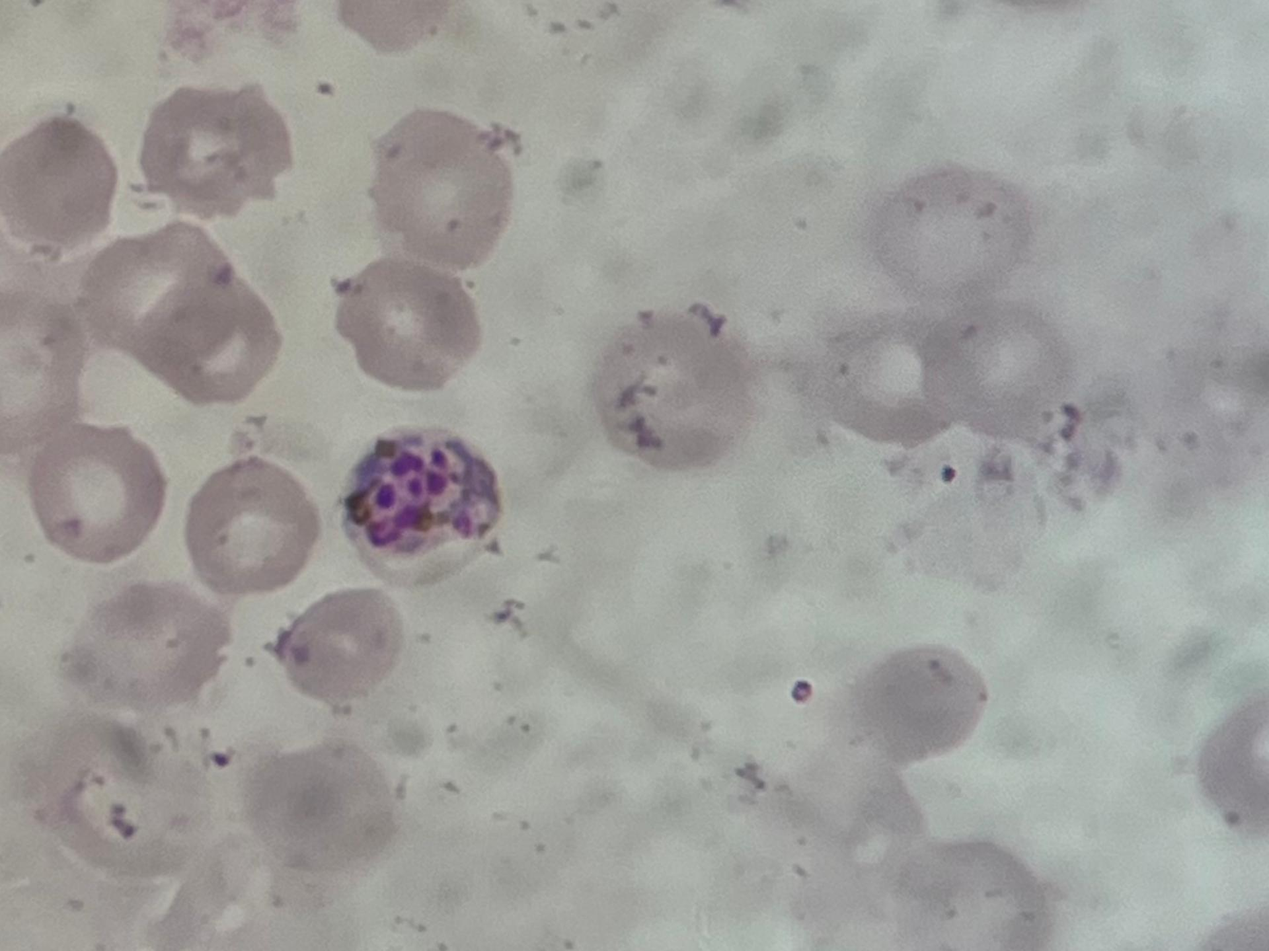Infected: (338, 425, 504, 578)
Uninfected: (27, 718, 197, 878), (592, 309, 753, 469), (366, 108, 514, 268), (867, 165, 1034, 298), (909, 304, 1071, 441), (79, 225, 230, 366), (240, 741, 397, 876), (139, 85, 292, 221), (24, 422, 168, 563), (73, 585, 227, 711), (811, 327, 962, 452), (183, 460, 320, 595), (336, 262, 479, 391), (144, 278, 279, 405), (850, 644, 988, 764), (0, 114, 116, 250), (270, 586, 401, 704), (3, 297, 89, 449)
